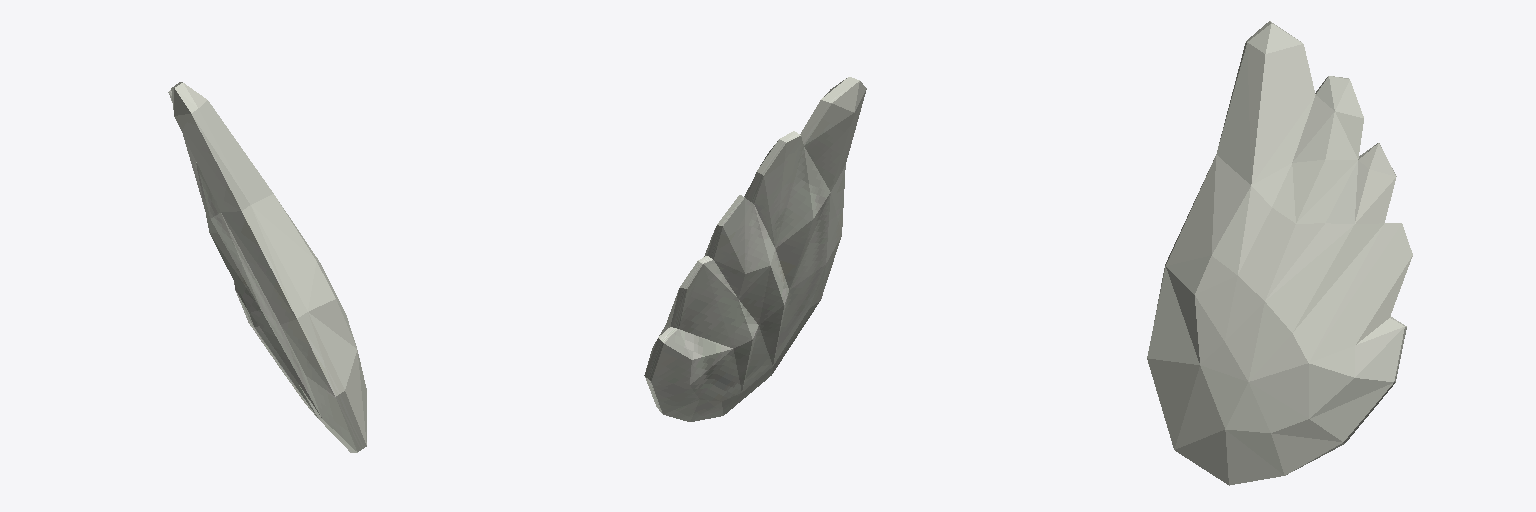
The picture shows the model from 3 angles: view 1: azimuth 30°, elevation 25°; view 2: azimuth 150°, elevation 25°; view 3: azimuth 270°, elevation 25°; orthographic projection.
Visible parts, largest first — view 1: AlaIzquierda:Mesh; view 2: AlaIzquierda:Mesh; view 3: AlaIzquierda:Mesh.
Part boxes in pixels (left/top/right/bottom): AlaIzquierda:Mesh: left=168, top=82, right=366, bottom=452; AlaIzquierda:Mesh: left=644, top=77, right=866, bottom=421; AlaIzquierda:Mesh: left=1147, top=21, right=1412, bottom=485.
Bounding box in the file's own units: 0.1504 × 0.3234 × 0.1996.
1 materials, 1 textured.